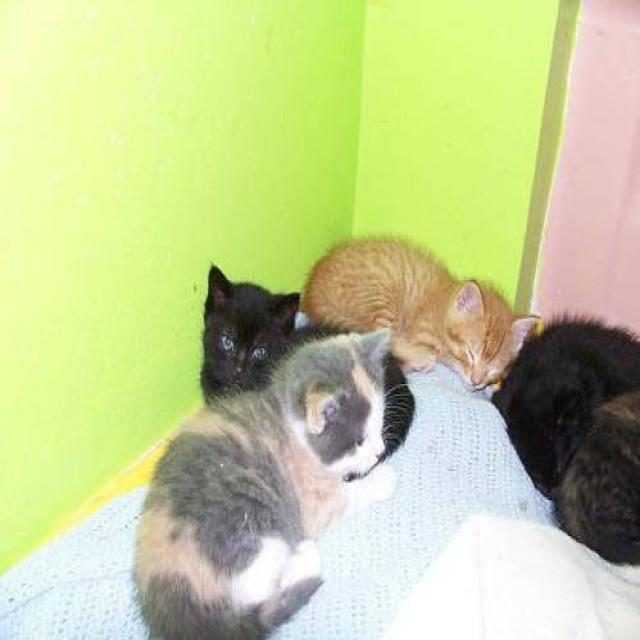cat: (130, 323, 416, 638), (298, 234, 542, 394), (490, 309, 639, 567)
